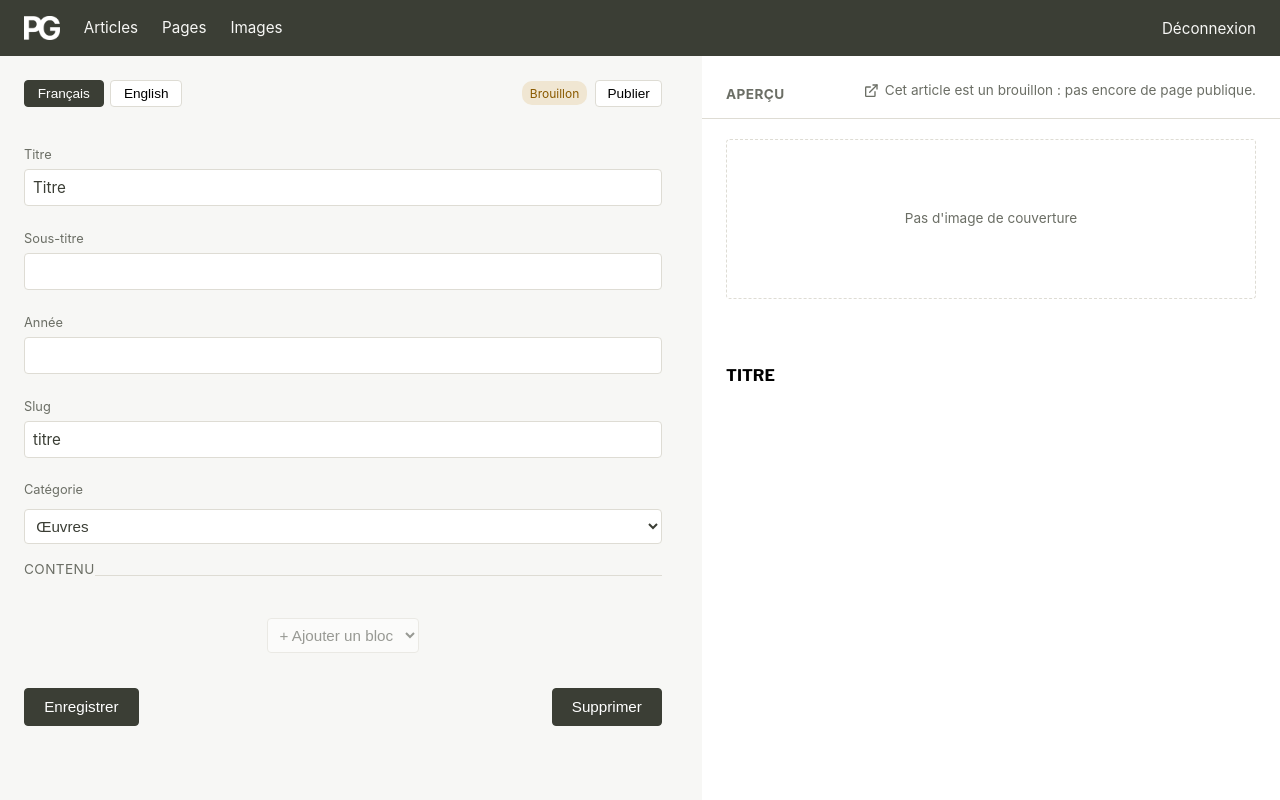
Test: Admin nav unsaved-changes guard › navigates immediately when there are no unsaved changes
This screenshot has width=1280, height=800.
Expected: the field showing "Titre" is shown, [24,170,662,206]
Click the link "Articles": click(111, 28) [84,16,138,40]
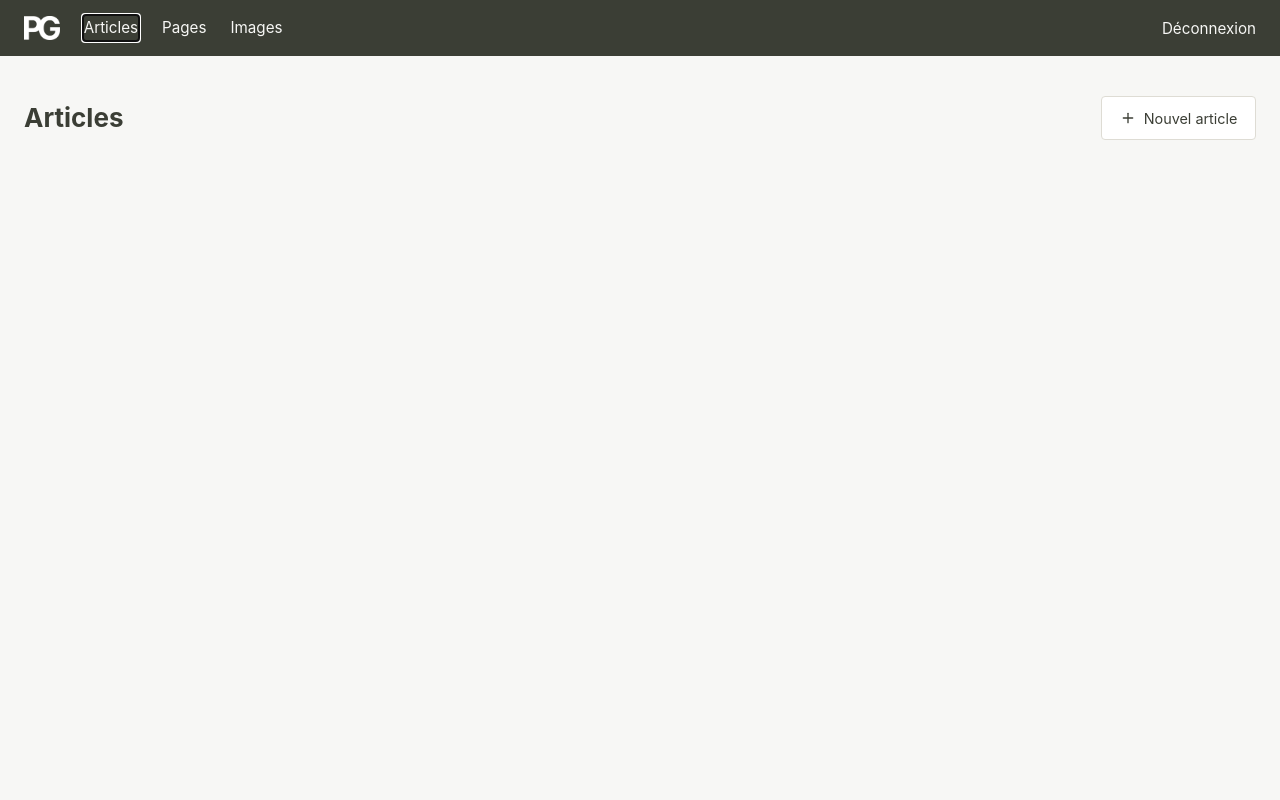
Expected: the label showing "Titre" is gone
